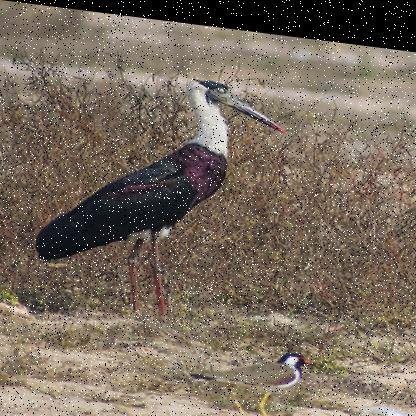Burung: (31, 52, 294, 330)
